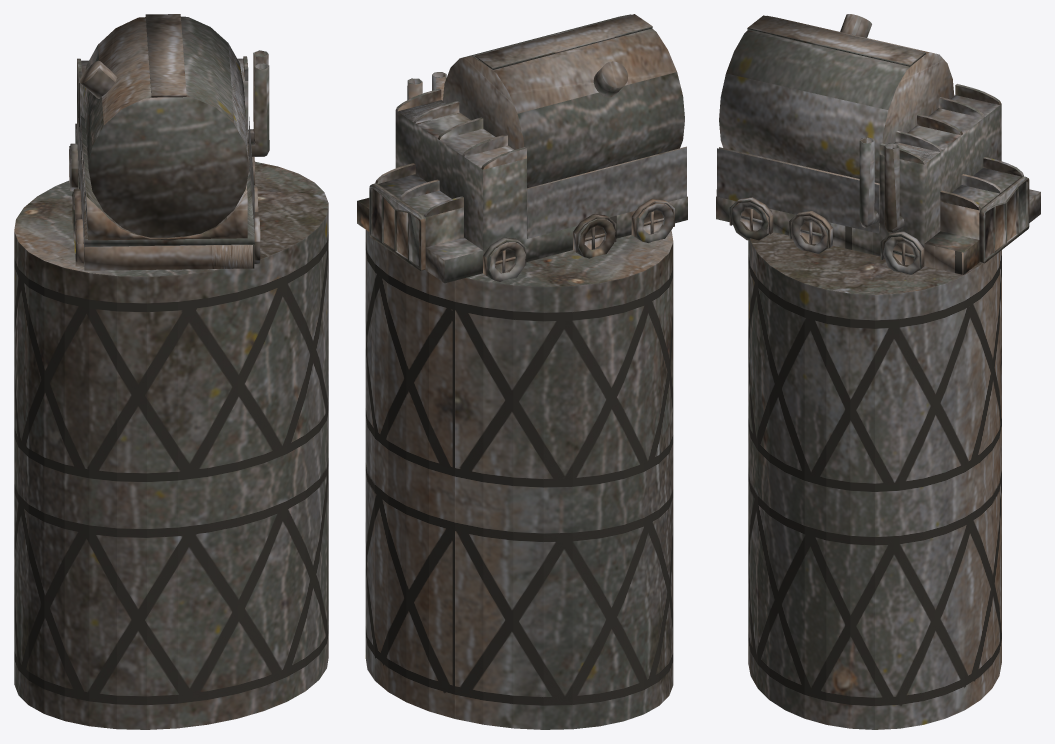
Rendered from Totem-Grua.fbx.
The picture shows the model from 3 angles, left to right: view 1: azimuth 30°, elevation 25°; view 2: azimuth 150°, elevation 25°; view 3: azimuth 270°, elevation 25°; orthographic projection. The views are drawn at different scales.
Visible parts, largest first — view 1: Cylinder.012; view 2: Cylinder.012; view 3: Cylinder.012.
Boxes of the visible parts, box(x1,y1,x2,y2) form: Cylinder.012: box(14, 14, 328, 729); Cylinder.012: box(357, 14, 687, 729); Cylinder.012: box(716, 14, 1040, 729).
Bounding box in the file's own units: 2 × 4.26 × 2.05.
Materials: 1 (1 with a texture image).
